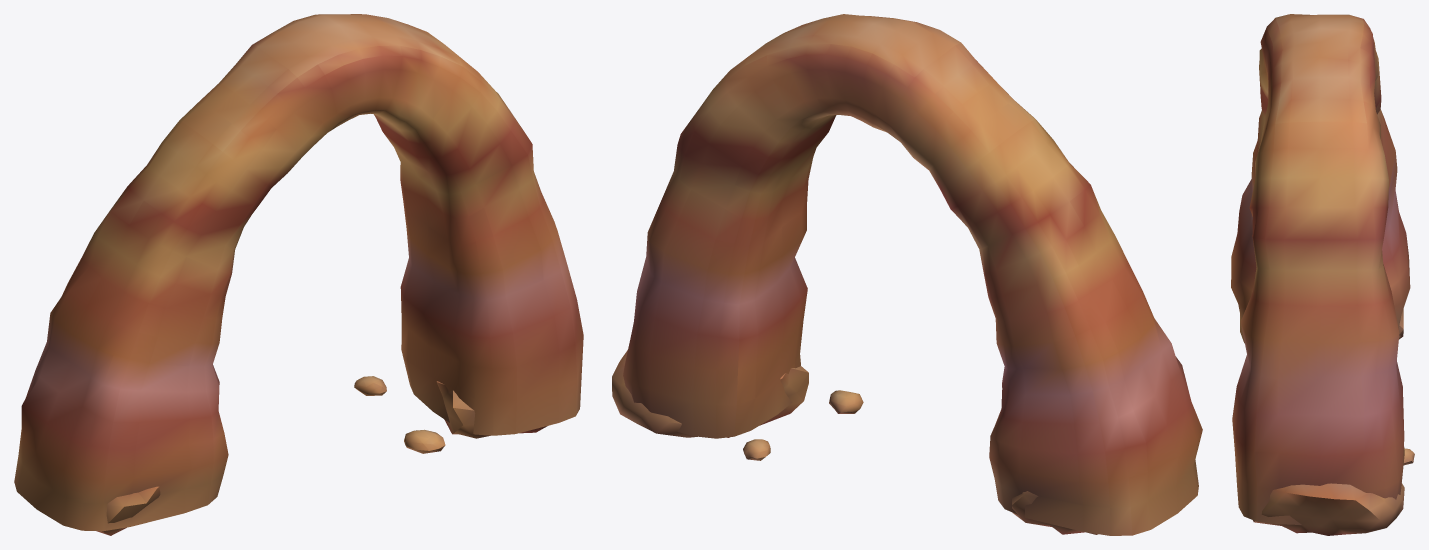
The model's file is amber_arch_sandstone_b.glb.
3 views of the same model, side by side, from view 1: azimuth 30°, elevation 25°; view 2: azimuth 150°, elevation 25°; view 3: azimuth 270°, elevation 25° (orthographic). The views are drawn at different scales.
Parts seen in each view (by area): view 1: amber_arch_sandstone_b; view 2: amber_arch_sandstone_b; view 3: amber_arch_sandstone_b.
Boxes of the visible parts, x1,y1,x2,y2 form: amber_arch_sandstone_b: (14,14,583,535); amber_arch_sandstone_b: (612,14,1202,535); amber_arch_sandstone_b: (1231,14,1414,535).
Bounding box in the file's own units: 20.72 × 15.55 × 6.38.
